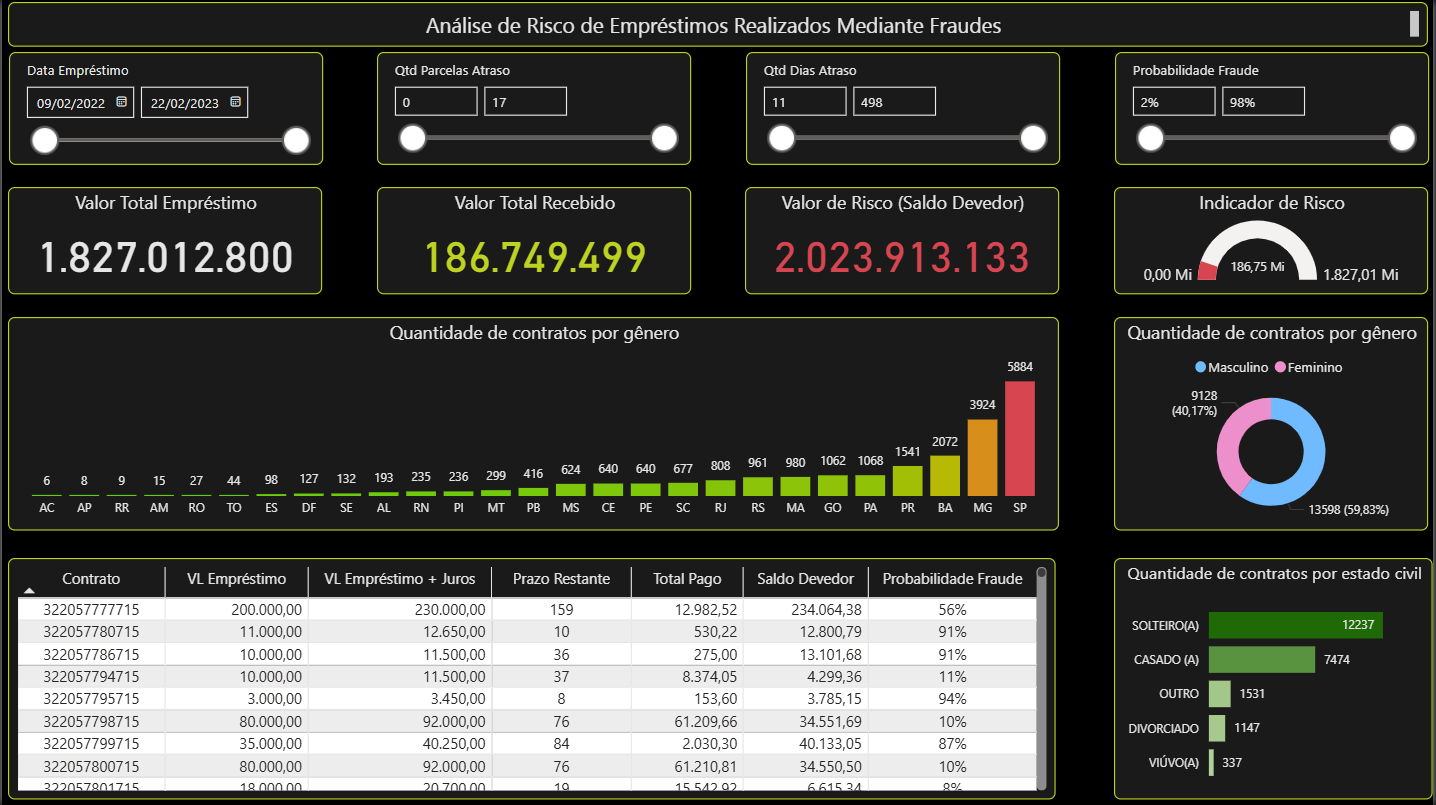

The dashboard page shown, as its layout file describes it:
{"tool":"powerbi","page":{"name":"Página 1","canvas":[1280,720],"ordinal":1},"visuals":[{"type":"slicer","fields":{"Values":["Sheet1.Data_Contratacao"]},"box":[5.8,46.3,280.6,100.9],"z":0},{"type":"slicer","fields":{"Values":["Sheet1.QT_Parcelas_Atraso"]},"box":[335.6,46.3,280.6,100.9],"z":1000},{"type":"slicer","fields":{"Values":["Sheet1.QT_Dias_Atraso"]},"box":[665.3,46.3,280.6,100.9],"z":2000},{"type":"slicer","fields":{"Values":["Sheet1.PROBABILIDADES"]},"box":[995.1,46.3,280.6,100.9],"z":3000},{"type":"card","title":"Valor Total Empréstimo","fields":{"Values":["Sum(Sheet1.VL_Emprestimo)"]},"box":[5.4,167.1,280.6,95.9],"z":4000},{"type":"card","title":"Valor Total Recebido","fields":{"Values":["Sum(Sheet1.Total_Pago)"]},"box":[335.2,167.1,280.6,95.9],"z":5000},{"type":"card","title":"Valor de Risco (Saldo Devedor)","fields":{"Values":["Sum(Sheet1.Saldo_Devedor)"]},"box":[665,167.1,280.6,95.9],"z":6000},{"type":"gauge","title":"Indicador de Risco","fields":{"MaxValue":["Sum(Sheet1.VL_Emprestimo)"],"Y":["Sum(Sheet1.Total_Pago)"]},"box":[994.7,167.1,280.6,95.9],"z":7000},{"type":"donutChart","title":"Quantidade de contratos por gênero","fields":{"Y":["Count(Sheet1.Contrato)"],"Category":["Sheet1.Genero"]},"box":[994.7,283.6,281,191.2],"z":8000},{"type":"clusteredBarChart","title":"Quantidade de contratos por estado civil","fields":{"Category":["Sheet1.Estado_Civil"],"Y":["Count(Sheet1.Contrato)"]},"box":[994.7,499.2,285.5,216.4],"z":9000},{"type":"clusteredColumnChart","title":"Quantidade de contratos por gênero","fields":{"Y":["Count(Sheet1.Contrato)"],"Category":["Sheet1.UF_Cliente"]},"box":[5.4,283.7,940,191.2],"z":10000},{"type":"tableEx","title":"Quantidade de contratos por gênero","fields":{"Values":["Sheet1.Contrato","Sum(Sheet1.VL_Emprestimo)","Sum(Sheet1.VL_Emprestimo_ComJuros)","Sum(Sheet1.Prazo_Restante)","Sum(Sheet1.Total_Pago)","Sum(Sheet1.Saldo_Devedor)","Sum(Sheet1.PROBABILIDADES)"]},"box":[5.4,499.2,937.3,216.4],"z":11000},{"type":"textbox","box":[5.4,1.8,1270.3,40.4],"z":12000}]}

Visuals, with their boxes in screenshot pixels (x1, y1, x2, y2), scaled from the page's 1280x720 canvas onto the 1436x805 screenshot:
slicer - Sheet1.Data_Contratacao: (7, 52, 321, 165)
slicer - Sheet1.QT_Parcelas_Atraso: (377, 52, 691, 165)
slicer - Sheet1.QT_Dias_Atraso: (746, 52, 1061, 165)
slicer - Sheet1.PROBABILIDADES: (1116, 52, 1431, 165)
"Valor Total Empréstimo" card: (6, 187, 321, 294)
"Valor Total Recebido" card: (376, 187, 691, 294)
"Valor de Risco (Saldo Devedor)" card: (746, 187, 1061, 294)
"Indicador de Risco" gauge: (1116, 187, 1431, 294)
"Quantidade de contratos por gênero" donutChart: (1116, 317, 1431, 531)
"Quantidade de contratos por estado civil" clusteredBarChart: (1116, 558, 1435, 800)
"Quantidade de contratos por gênero" clusteredColumnChart: (6, 317, 1061, 531)
"Quantidade de contratos por gênero" tableEx: (6, 558, 1058, 800)
textbox: (6, 2, 1431, 47)
